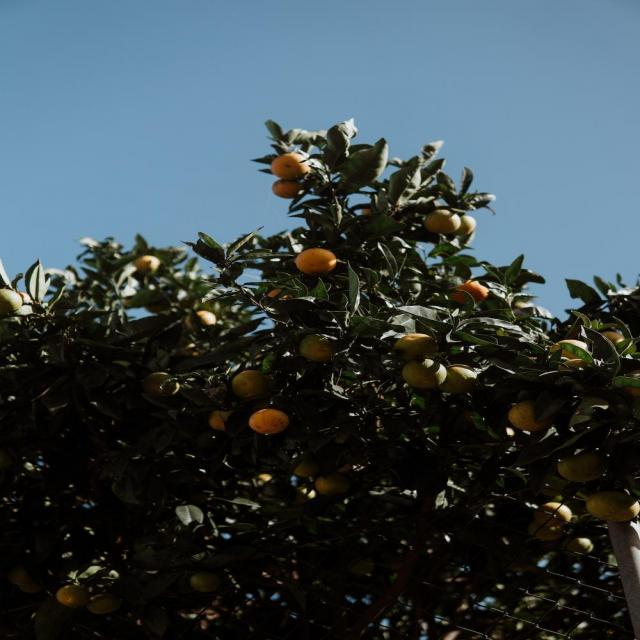Jeruk Belum Matang: (588, 492, 638, 520), (558, 452, 602, 480), (406, 361, 446, 388), (441, 366, 479, 394), (506, 402, 543, 430), (398, 334, 436, 359), (300, 336, 337, 360), (234, 370, 268, 395), (427, 210, 459, 233), (148, 372, 178, 394), (56, 586, 86, 608), (528, 522, 562, 540), (192, 572, 221, 592), (90, 595, 121, 612), (0, 288, 21, 313), (566, 538, 592, 555), (454, 216, 476, 236)
Jeruk Sudah Matang: (270, 154, 308, 179), (298, 248, 336, 273), (449, 280, 486, 305), (250, 410, 288, 434), (556, 338, 588, 361), (534, 504, 569, 524), (184, 310, 217, 330), (272, 180, 302, 198), (137, 256, 157, 271)
